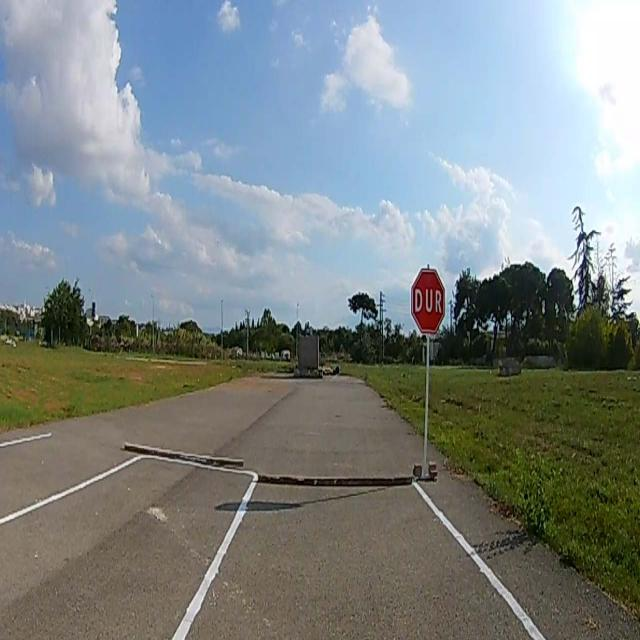dur: (412, 268, 446, 334)
